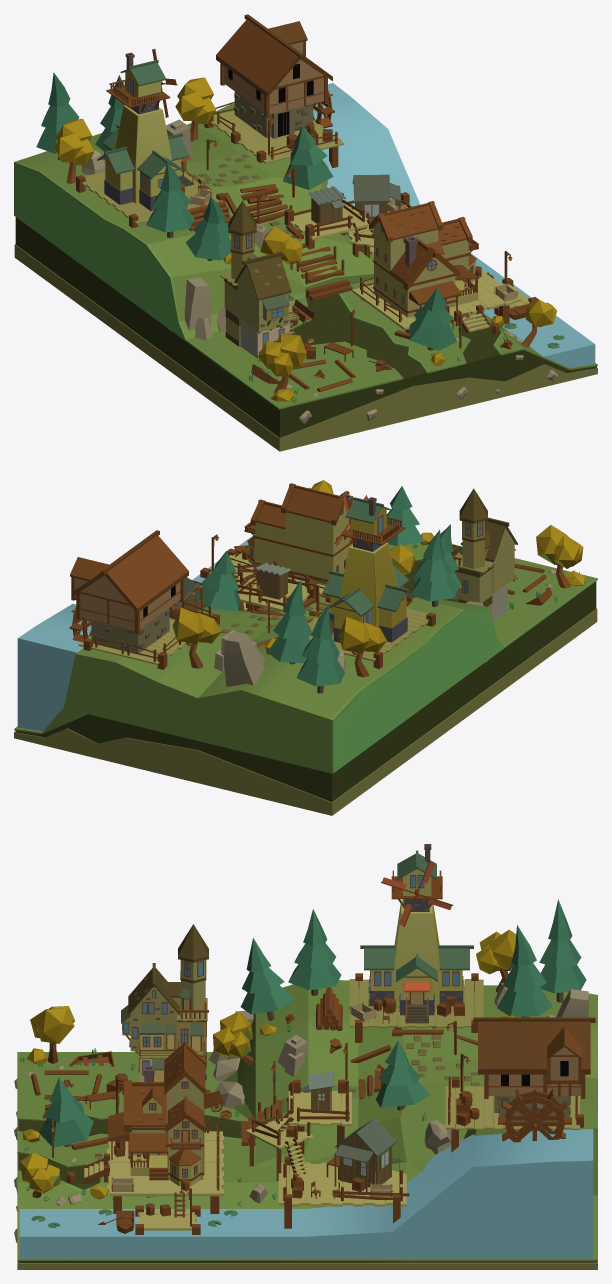
The model's file is escenario.obj.
3 renders of one model, top to bottom at view 1: azimuth 30°, elevation 25°; view 2: azimuth 150°, elevation 25°; view 3: azimuth 270°, elevation 25°, orthographic. The views are drawn at different scales.
Parts seen in each view (by area): view 1: Soil1, Tree_2, B_House_1, B_House_5, Water, B_House_4, Tree_1, B_House_3, Wood, Rock, Wood_floor_1, Wood_floor_3 (+12 smaller); view 2: Soil1, Tree_2, B_House_5, B_House_1, B_House_4, Water, Tree_1, B_House_3, Rock, Wood_floor_3, Wood_floor_2, Wood_floor_4 (+7 smaller); view 3: Soil1, Water, Tree_2, B_House_1, B_House_5, Wood_floor_2, B_House_4, Wood_floor_1, Tree_1, B_House_3, Rock, Wood (+19 smaller).
Boxes of the visible parts, box(x1,y1,x2,y2) form: Soil1: box(14, 103, 597, 451); Tree_2: box(36, 72, 456, 350); B_House_1: box(369, 201, 479, 317); B_House_5: box(216, 14, 332, 138); Water: box(313, 83, 595, 367); B_House_4: box(97, 52, 194, 210); Tree_1: box(53, 77, 556, 393); B_House_3: box(224, 200, 292, 358); Wood: box(181, 161, 409, 391); Rock: box(82, 119, 557, 423); Wood_floor_1: box(352, 266, 538, 333); Wood_floor_3: box(204, 101, 344, 167); Soil1: box(14, 542, 597, 815); Tree_2: box(192, 486, 462, 693); B_House_5: box(70, 530, 188, 654); B_House_1: box(244, 483, 353, 585); B_House_4: box(322, 497, 414, 642); Water: box(17, 535, 252, 731); Tree_1: box(172, 480, 583, 677); B_House_3: box(454, 488, 517, 621); Rock: box(214, 570, 555, 686); Wood_floor_3: box(78, 600, 219, 669); Wood_floor_2: box(192, 560, 316, 611); Wood_floor_4: box(307, 608, 436, 668); Soil1: box(17, 980, 597, 1269); Water: box(19, 1129, 593, 1258); Tree_2: box(39, 899, 586, 1147); B_House_1: box(108, 1042, 205, 1186); B_House_5: box(473, 1017, 595, 1121); Wood_floor_2: box(245, 1079, 409, 1228); B_House_4: box(360, 844, 473, 1023); Wood_floor_1: box(83, 1119, 223, 1234); Tree_1: box(20, 929, 516, 1198); B_House_3: box(122, 924, 208, 1081); Rock: box(14, 982, 588, 1242); Wood: box(31, 987, 477, 1150).
Size of the model in its own units: 53.67 by 39.81 by 76.72.
38 materials, 37 textured.
